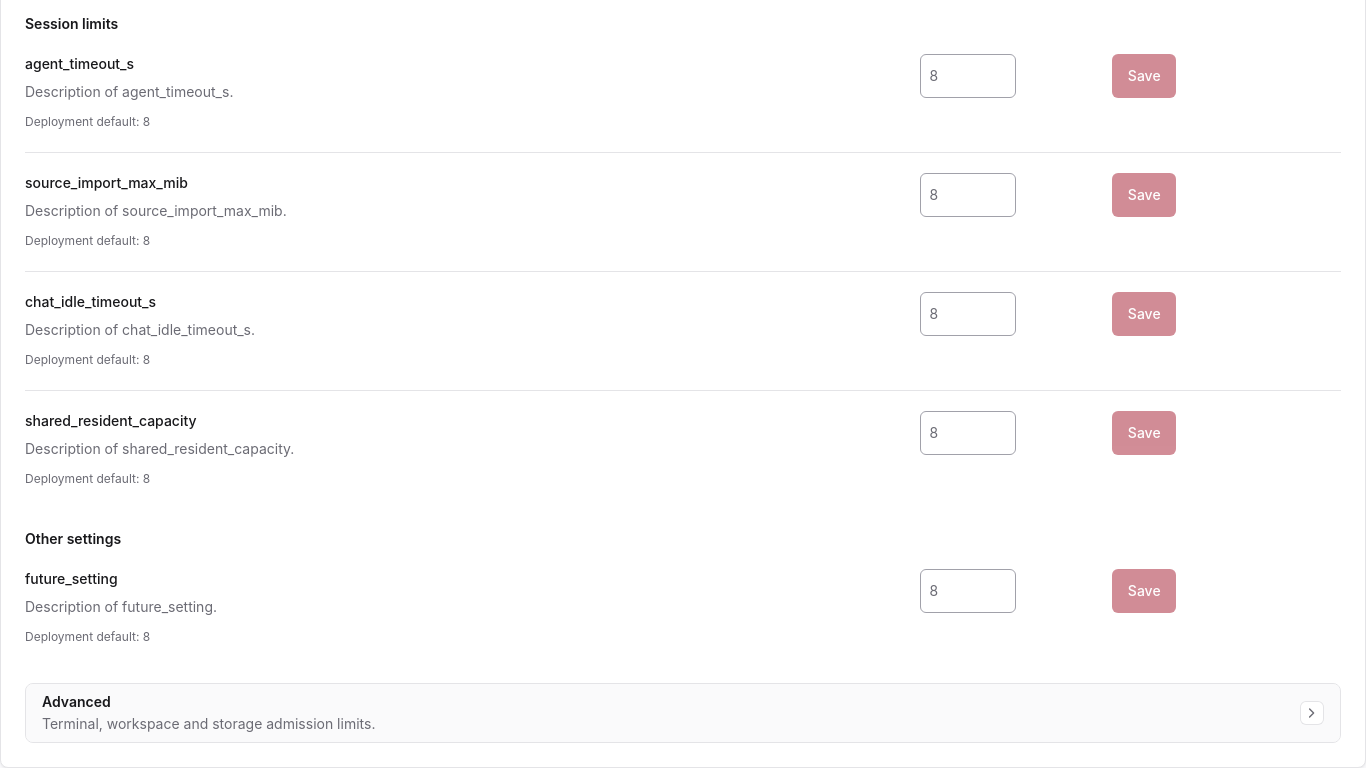
Test: sandbox setting organization › keeps essential and future settings visible while grouping advanced limits
This screenshot has width=1366, height=768.
(page scrolled)
Expected: the number field named "future_setting for all servers" is shown, [920, 569, 1016, 613]
What coordinates should you click on to do the following:
click the text "Advanced"
I would click on:
 (76, 702)
Its box is [42, 693, 111, 710].
(page scrolled)
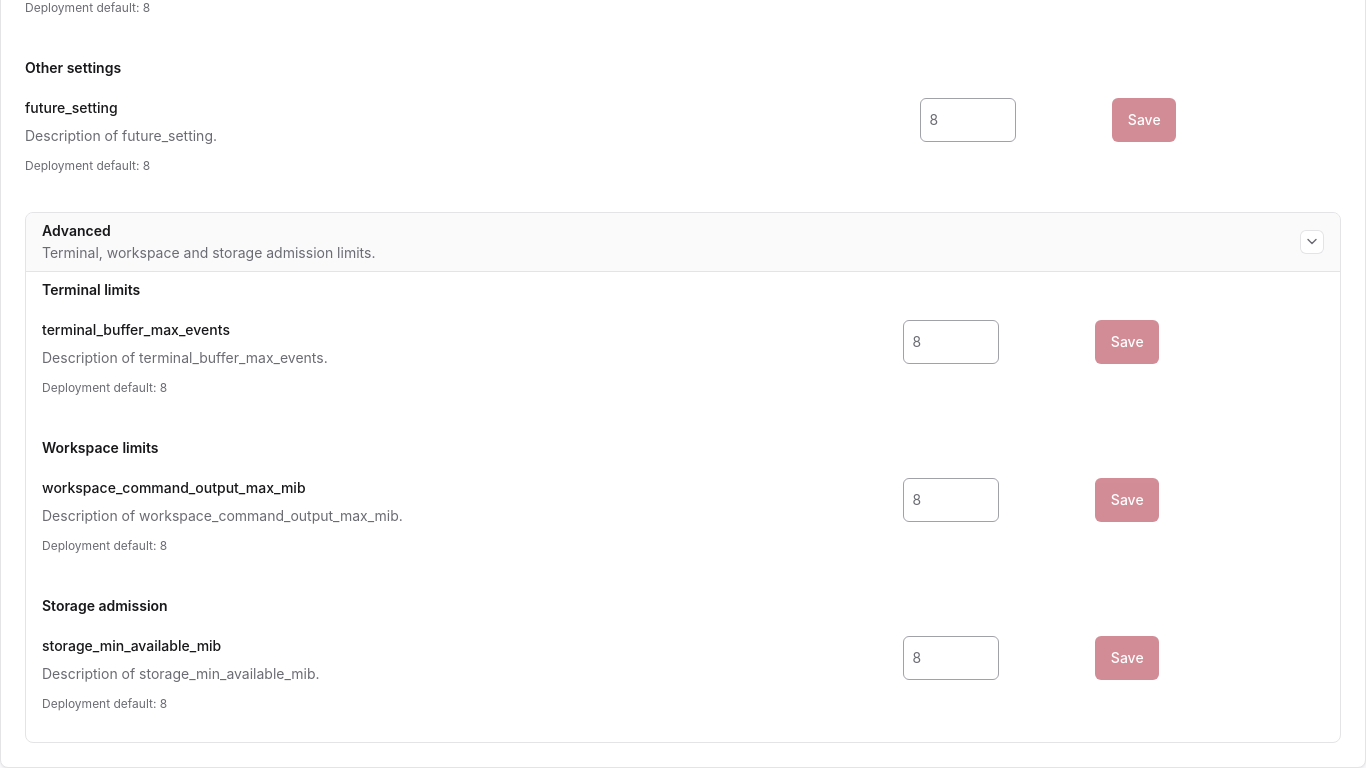
Expected: the heading "Terminal limits" is shown, [42, 281, 140, 298]
Expected: the heading "Workspace limits" is shown, [42, 439, 158, 456]
Expected: the heading "Storage admission" is shown, [42, 597, 168, 614]
